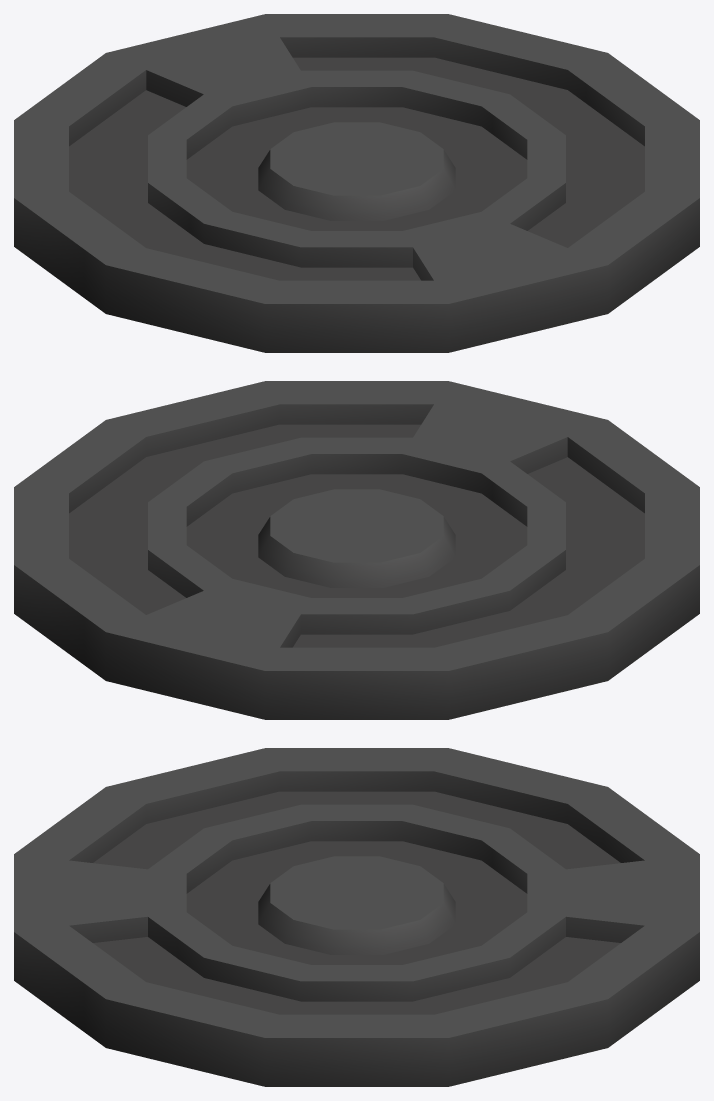
File: Manhole_01.fbx
3 views of the same model, one above another, from view 1: azimuth 30°, elevation 25°; view 2: azimuth 150°, elevation 25°; view 3: azimuth 270°, elevation 25° (orthographic).
Visible parts, largest first — view 1: Manhole_01; view 2: Manhole_01; view 3: Manhole_01.
Part boxes in pixels (<box>): Manhole_01: <box>14,14,699,352</box>; Manhole_01: <box>14,381,699,719</box>; Manhole_01: <box>14,748,699,1086</box>.
Size of the model in its own units: 90.92 by 7.14 by 90.92.
